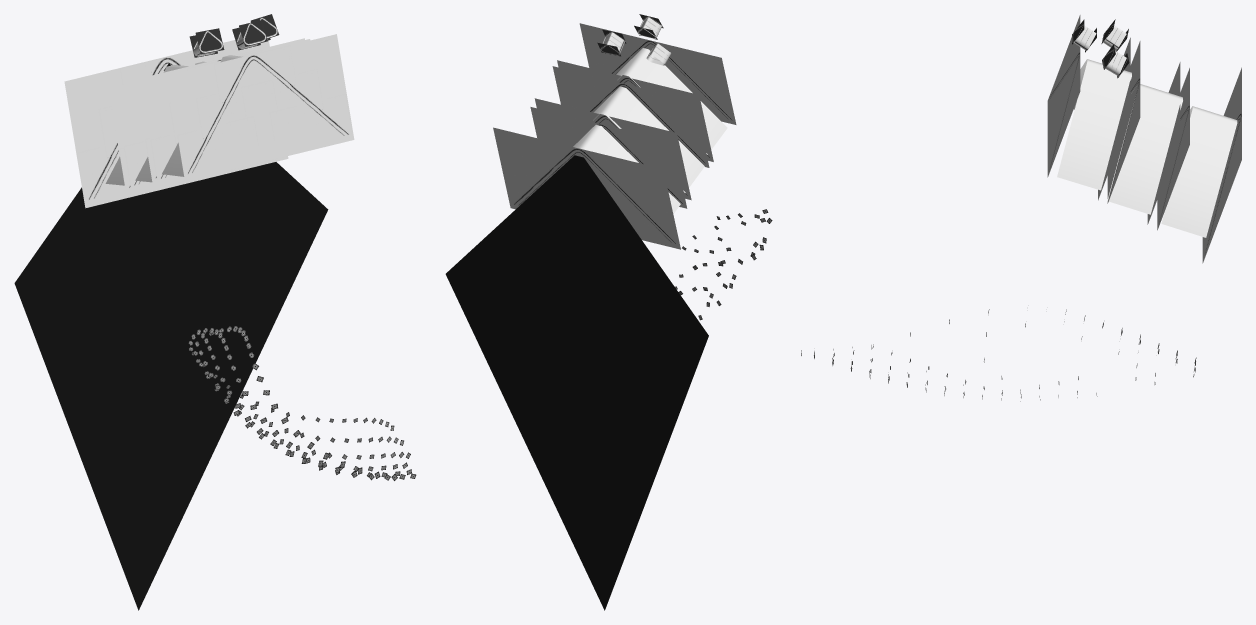
File: inizio5.dae
3 views of the same model, side by side, from view 1: azimuth 30°, elevation 25°; view 2: azimuth 150°, elevation 25°; view 3: azimuth 270°, elevation 25° (orthographic). The views are drawn at different scales.
Visible parts, largest first — view 1: back, topgrande (×6), spirale, megapattern_top (×2); view 2: back, topgrande (×6), no_alpha (×3), spirale; view 3: no_alpha (×3), topgrande (×6).
Boxes of the visible parts, left/top/right/bottom form: back: left=14, top=63, right=328, bottom=610; topgrande (×6): left=64, top=34, right=354, bottom=208; spirale: left=188, top=325, right=416, bottom=480; megapattern_top (×2): left=195, top=20, right=267, bottom=54; back: left=445, top=155, right=708, bottom=610; topgrande (×6): left=493, top=23, right=736, bottom=249; no_alpha (×3): left=573, top=48, right=727, bottom=213; spirale: left=675, top=209, right=772, bottom=320; no_alpha (×3): left=1057, top=59, right=1237, bottom=237; topgrande (×6): left=1047, top=15, right=1241, bottom=263.
Size of the model in its own units: 523 by 1020 by 679.
Materials: 7 (7 with a texture image).
